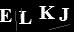E: (1, 7, 13, 23)
J: (58, 7, 70, 22)
K: (37, 5, 56, 20)
L: (18, 9, 33, 25)
